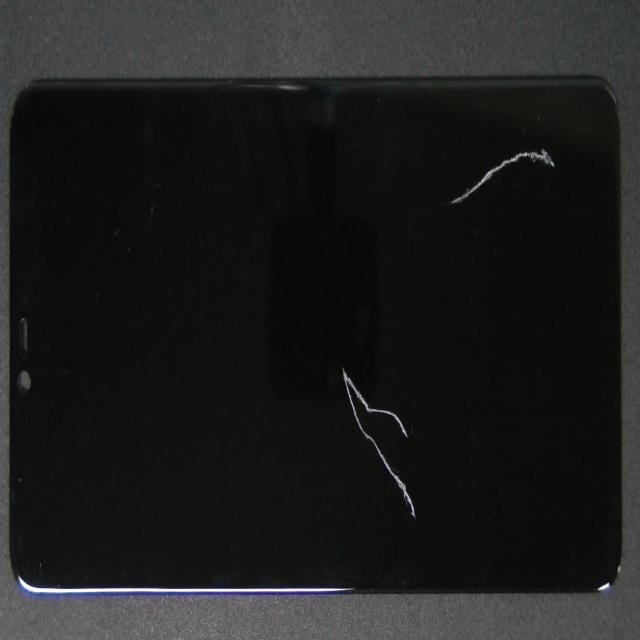scratch: (213, 315, 640, 640), (309, 95, 640, 217)
